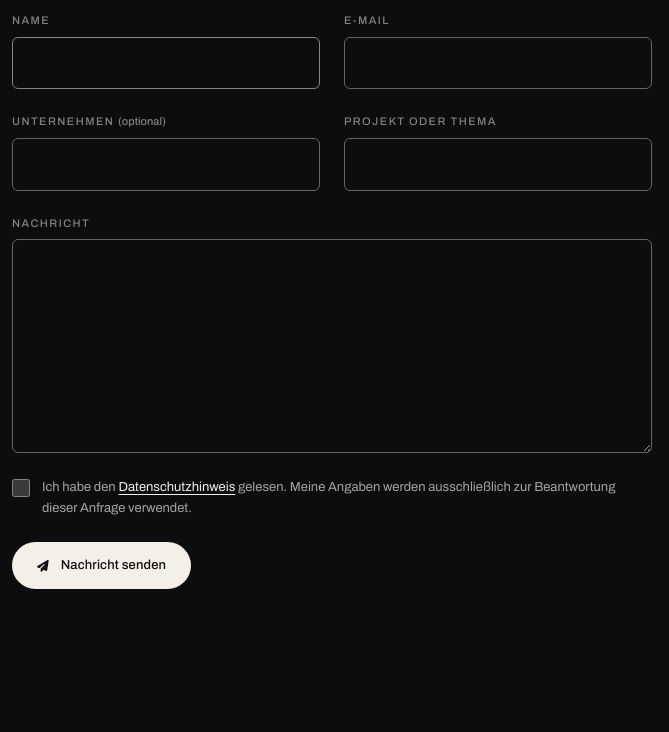
Kontaktformular › sendet nichts ab, wenn Pflichtfelder fehlen
Click the button "Nachricht senden".
click(102, 566)  # box top-left (12, 542), bottom-right (191, 590)
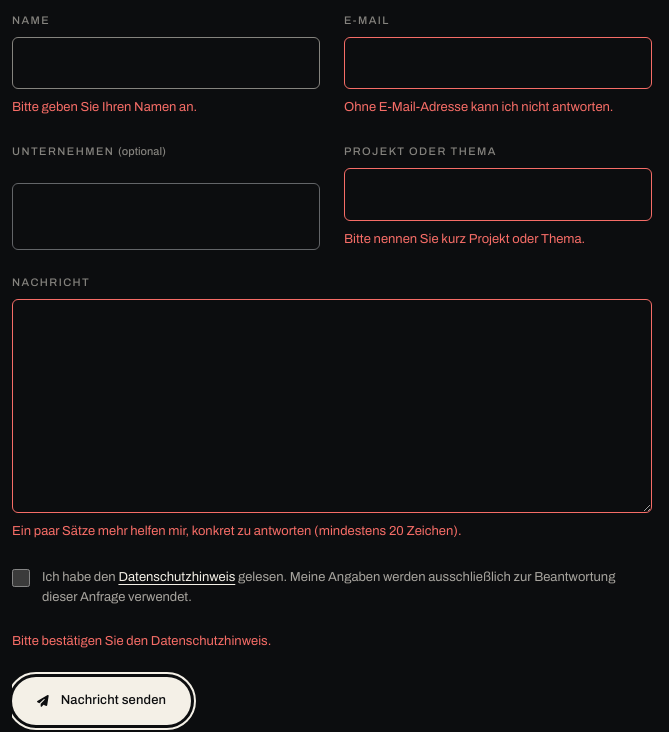
Check: the text "Bitte geben Sie Ihren Namen an." is shown, box top-left (12, 100), bottom-right (197, 114)
